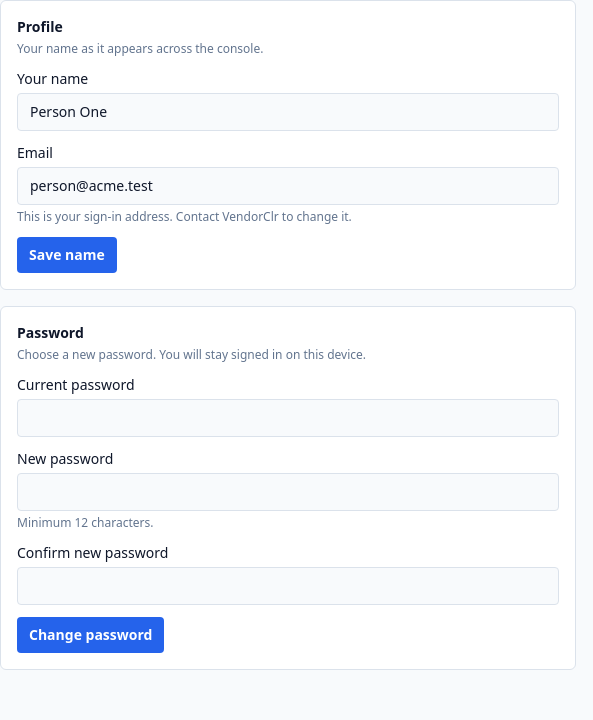
Scenario: AccountSettings › saves the profile name and refreshes the session
This screenshot has width=593, height=720.
Replace the text in the field labelled "Your name" with "New Name" at (288, 112), box [17,93,559,131]
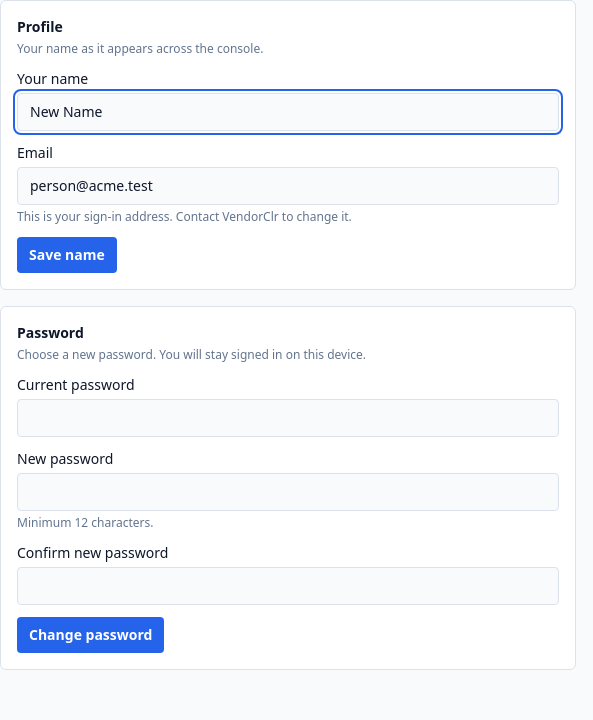
Click the button "Save name" at (67, 255), box [17,237,117,273]
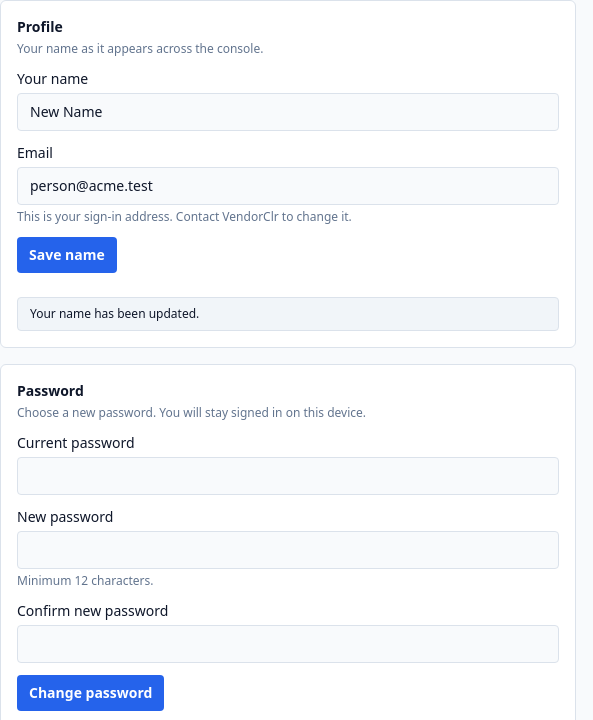
Now the text "Your name has been updated." is shown, box [17,297,559,331]
